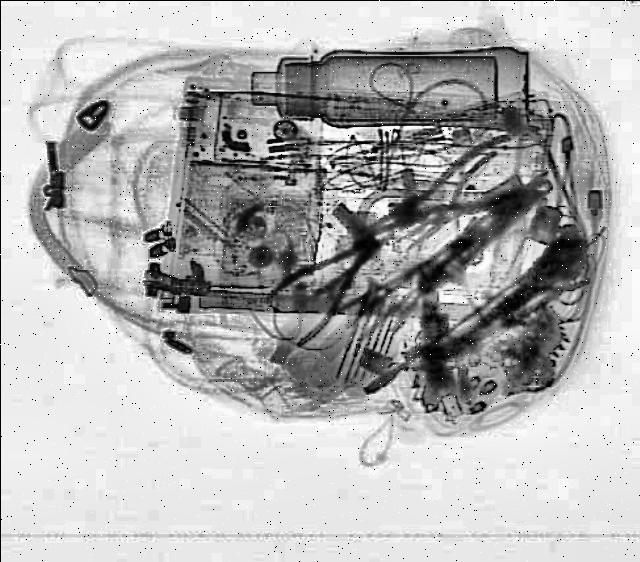Pliers: (350, 127, 550, 259), (243, 219, 402, 351)
